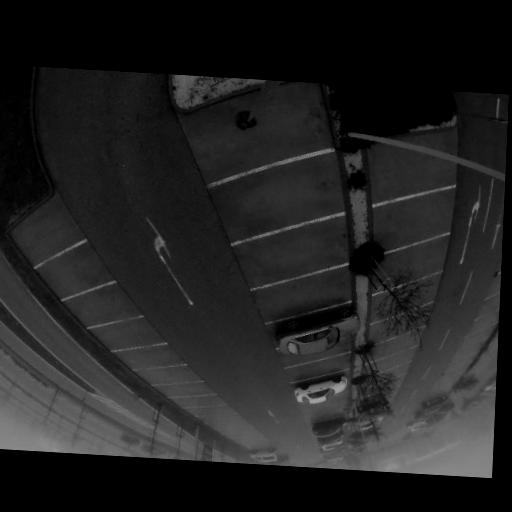busy: (274, 310, 356, 359), (295, 375, 346, 406), (313, 416, 351, 438)
free: (209, 93, 298, 164), (245, 175, 310, 219), (386, 134, 429, 193), (388, 201, 436, 238), (263, 237, 313, 272), (386, 282, 425, 319), (55, 256, 91, 288), (279, 284, 322, 309), (29, 220, 65, 249), (399, 248, 433, 277), (86, 291, 120, 318), (114, 321, 143, 346), (388, 311, 415, 336), (291, 344, 324, 363), (297, 354, 328, 373), (139, 347, 166, 367), (309, 399, 334, 419), (304, 361, 331, 378), (378, 353, 397, 373), (160, 367, 183, 382), (190, 396, 210, 410), (384, 341, 403, 353), (179, 382, 198, 392), (202, 405, 216, 416)
